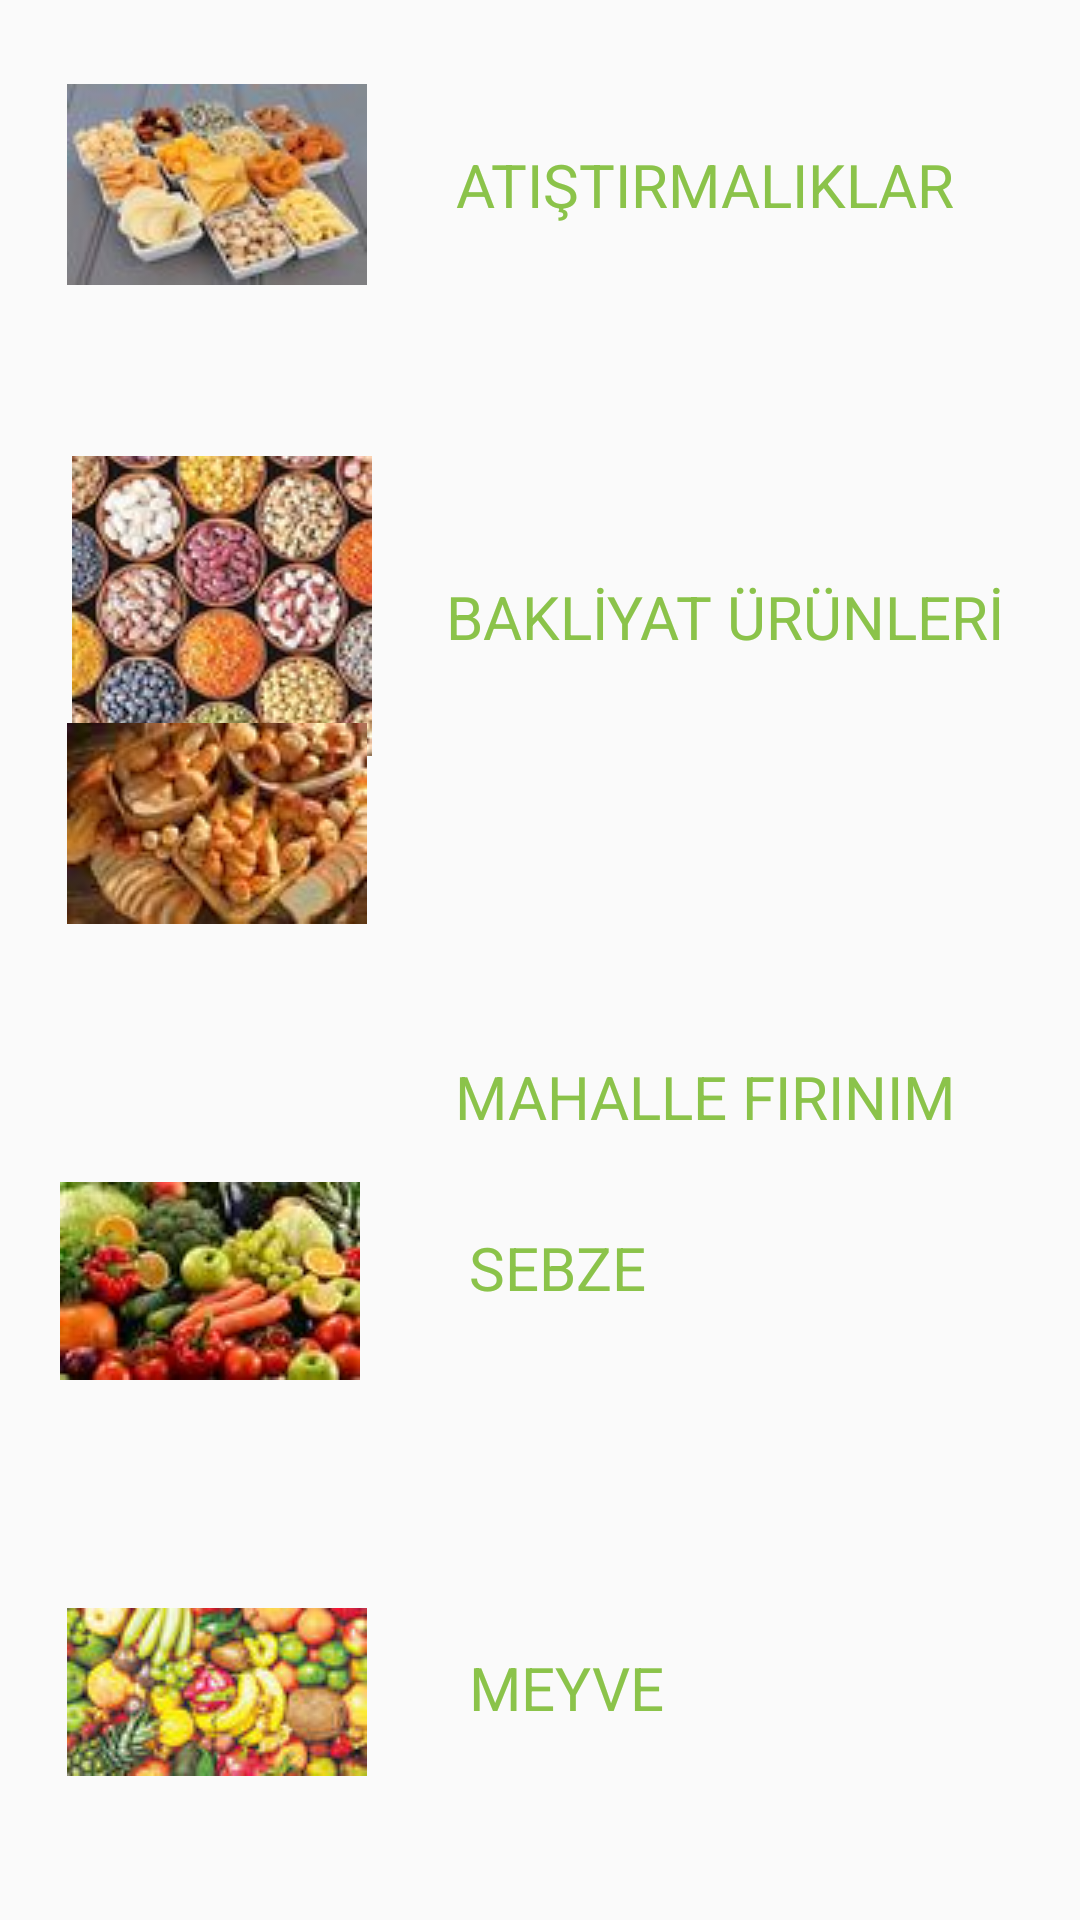

Named icons in this screenshot (1080*1920) and their centers, [x,y]:
atistirmalik: [217,184]
